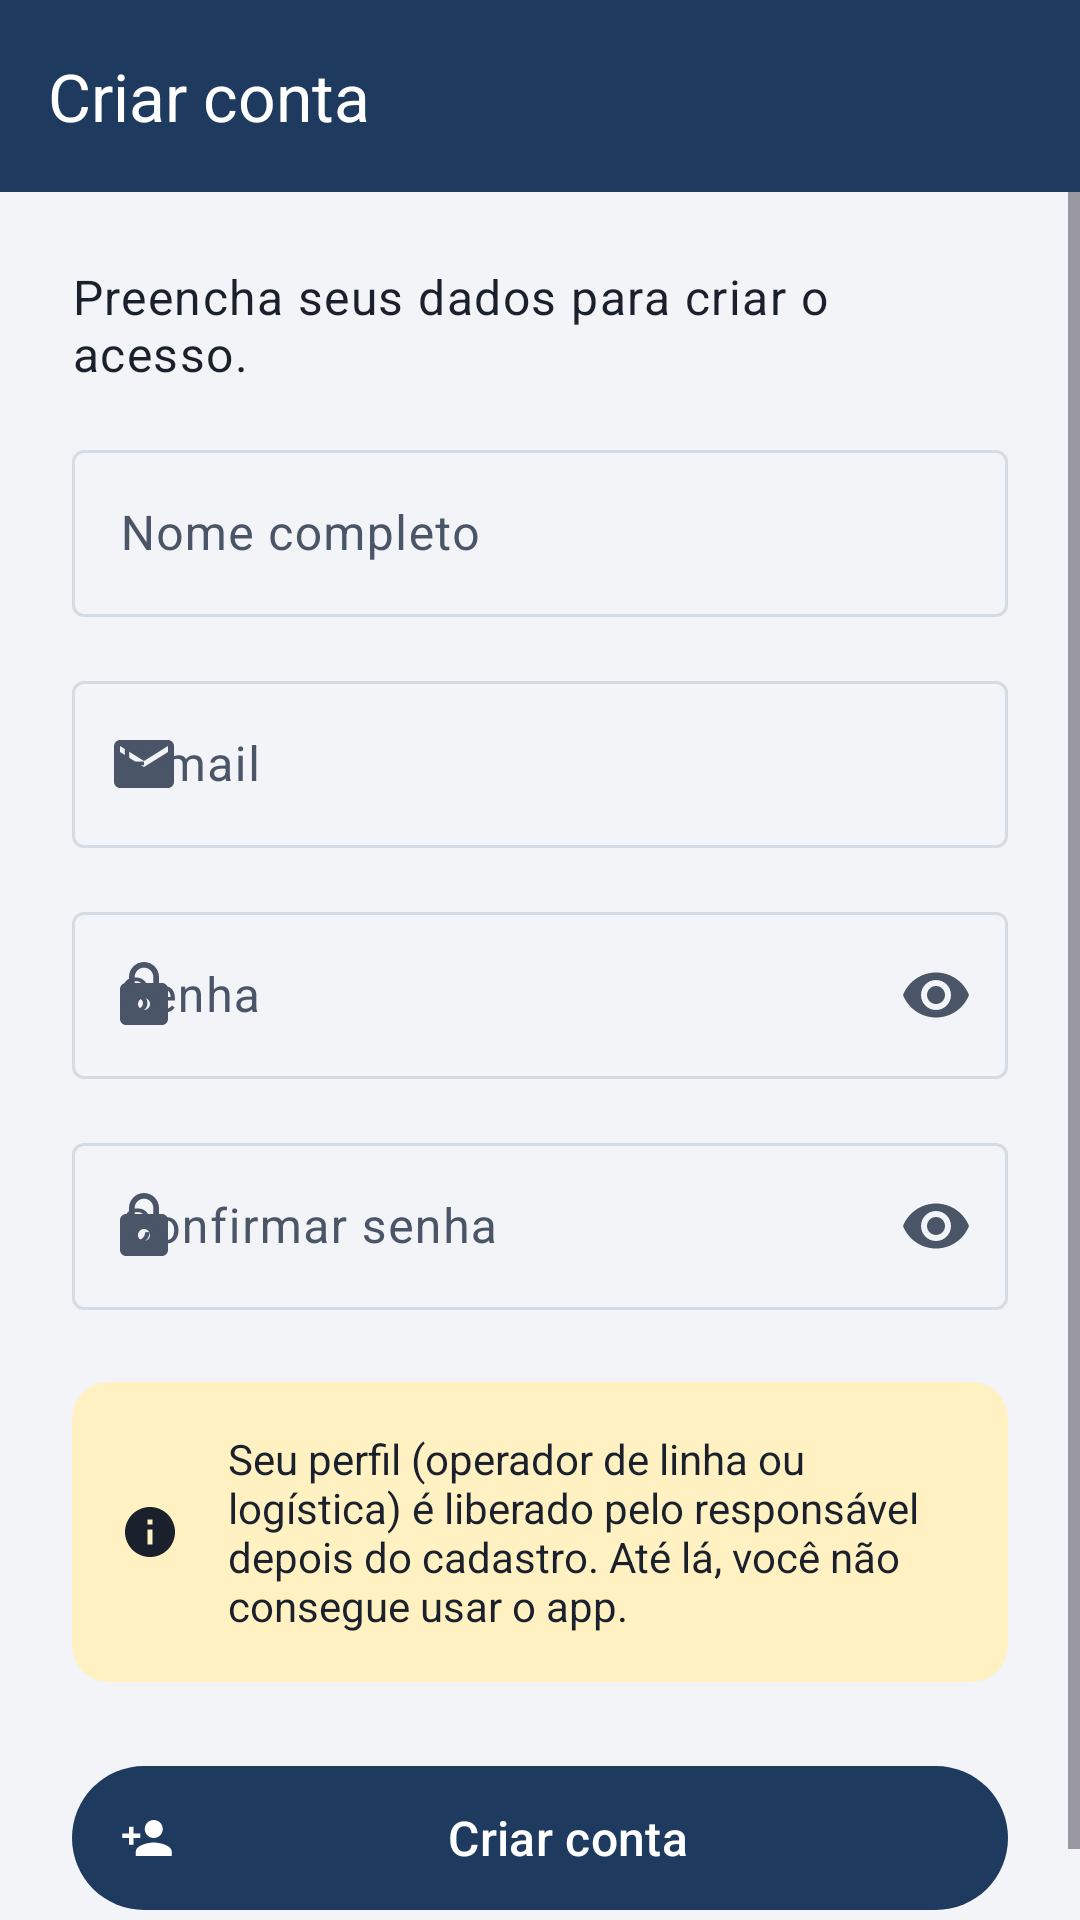

Screen size 1080 x 1920. Icon name, then its box in pixels as BBox(x1, y1, x2, y2):
info: BBox(125, 1507, 175, 1557)
